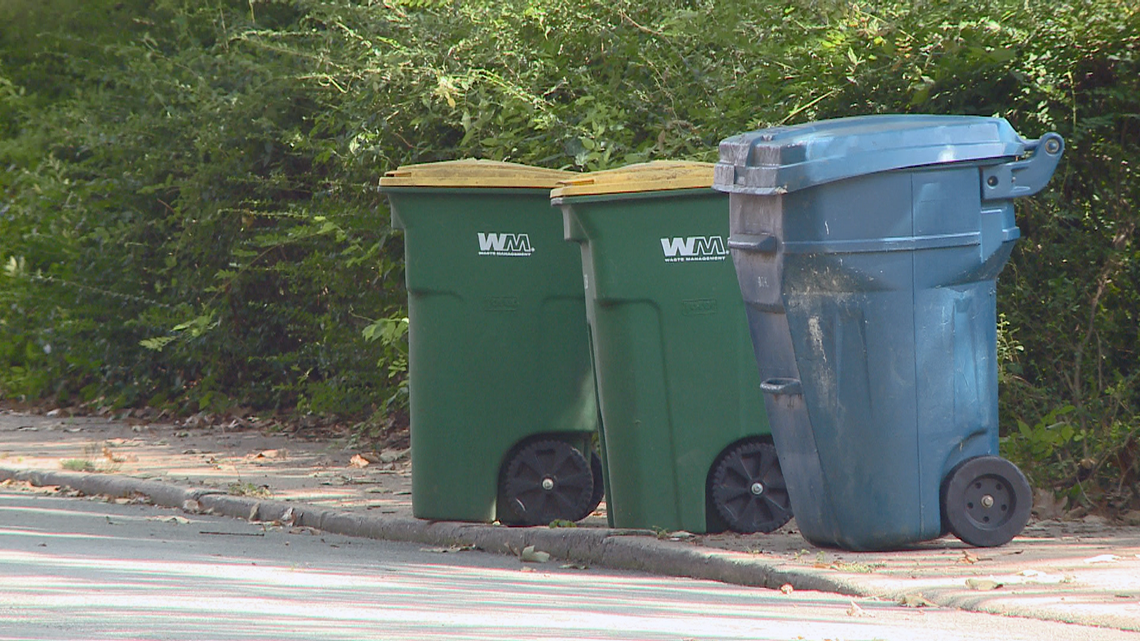TrashBin: (717, 100, 1042, 556), (544, 147, 804, 540), (356, 140, 609, 536)
